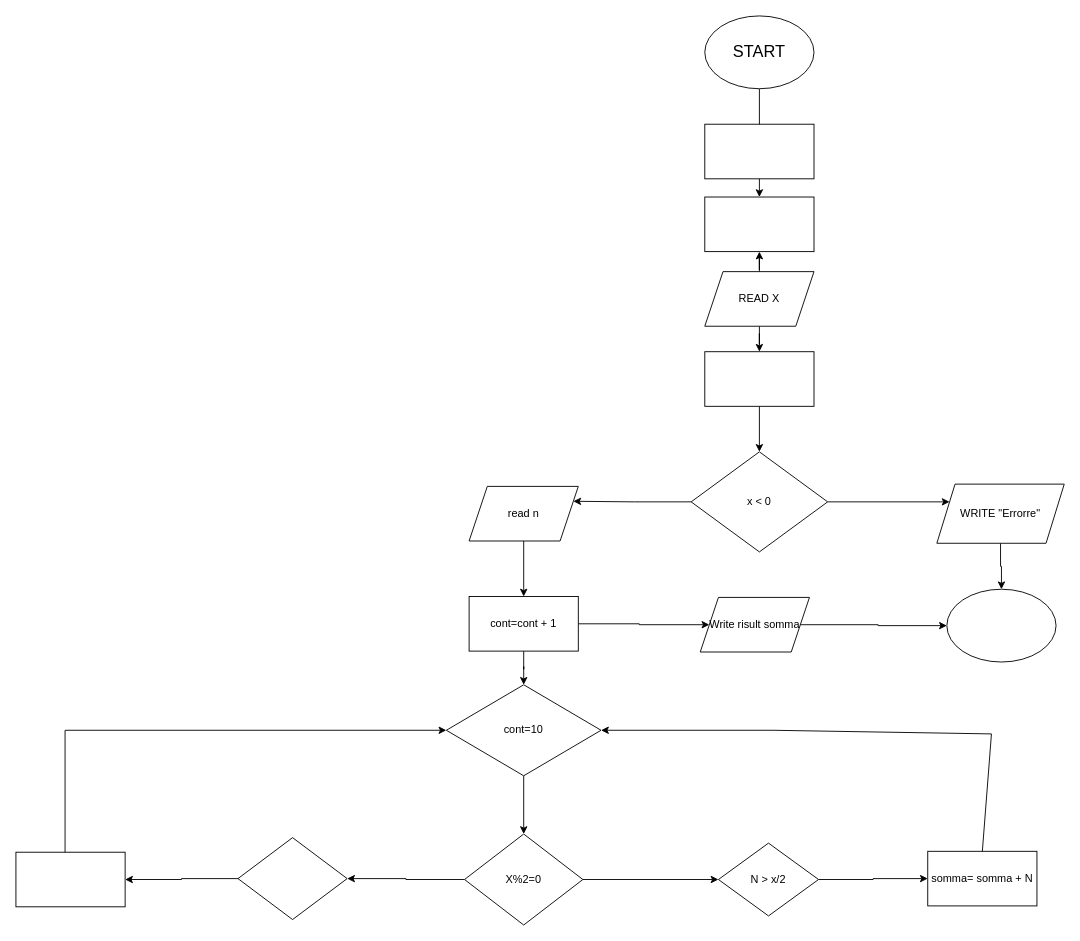
Image size: 1080x941. Some labels were removed from this diagram. Each missing label, with the centre of its shape:
cont = 0: the point at 759,378
END: the point at 1001,625
n<x: the point at 292,878
risult = 0: the point at 759,224
risult= risult + n: the point at 70,879
somma = 0: the point at 759,151
